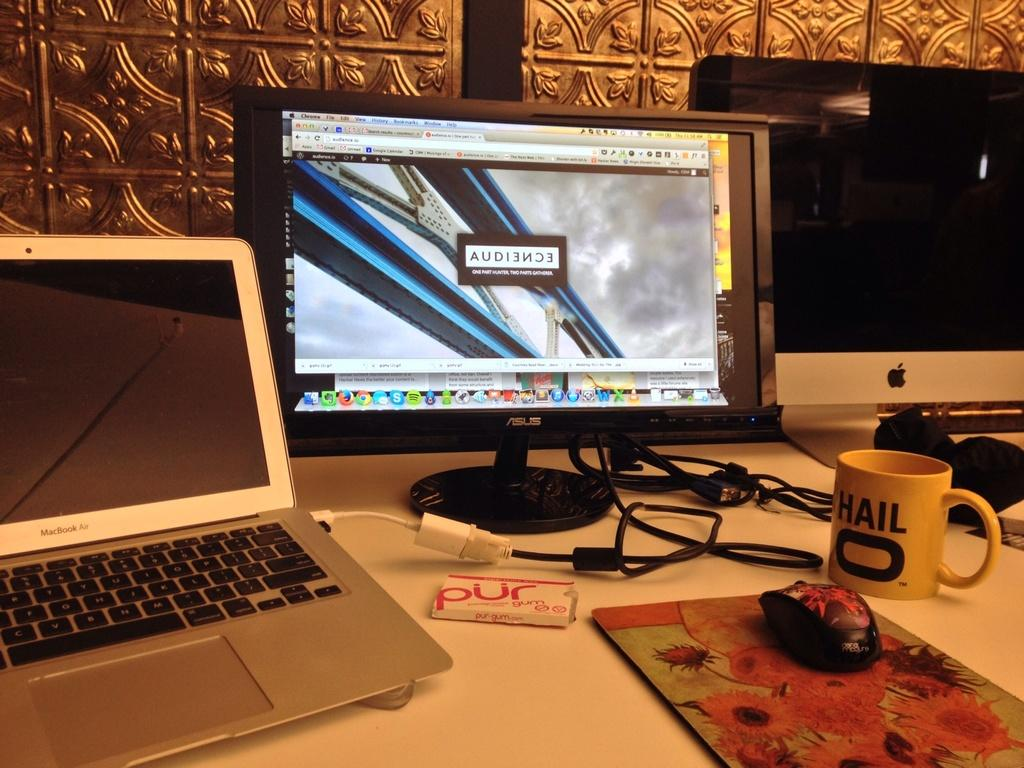Computer-keyboard: (0, 520, 346, 671)
